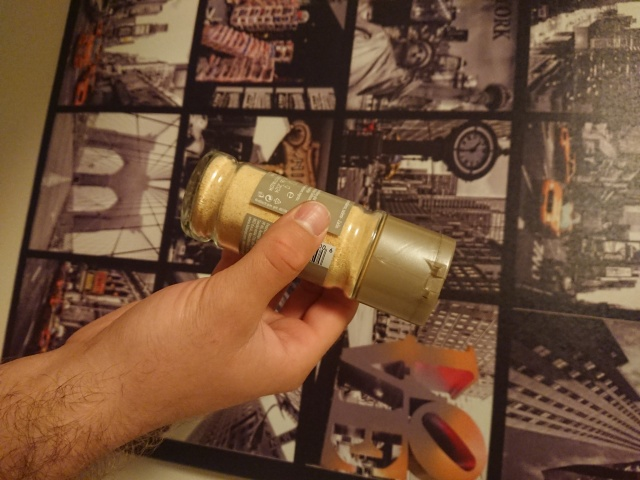Kotanyi Garlic Granules 70g: (178, 148, 458, 329)
